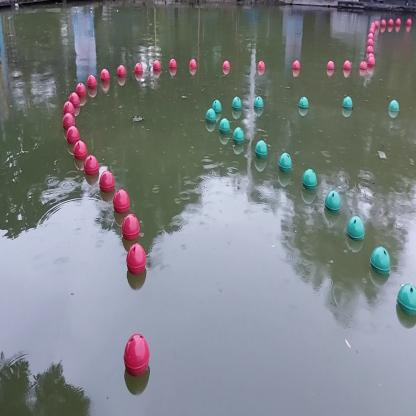green_buoy: (395, 282, 416, 325), (370, 245, 392, 284), (344, 216, 364, 246), (325, 188, 343, 220), (255, 138, 268, 166), (303, 170, 318, 191), (278, 154, 292, 176), (297, 94, 310, 116), (219, 118, 231, 141), (342, 94, 354, 116), (233, 127, 245, 149), (389, 97, 400, 120), (231, 97, 243, 116), (252, 95, 264, 112), (208, 108, 216, 127), (212, 99, 220, 116)
red_buoy: (125, 335, 149, 377), (127, 244, 147, 278), (122, 213, 141, 245), (112, 188, 131, 216), (85, 154, 99, 179), (100, 172, 114, 197), (62, 112, 75, 134), (86, 73, 98, 95), (66, 126, 78, 148), (75, 80, 86, 102), (99, 69, 111, 89), (68, 91, 79, 112), (63, 103, 75, 122), (74, 141, 86, 159), (116, 65, 126, 83), (188, 56, 197, 74), (366, 54, 376, 70), (326, 59, 335, 76), (342, 61, 351, 78), (134, 64, 142, 81), (292, 59, 299, 76), (222, 60, 230, 74), (169, 60, 177, 74), (360, 61, 366, 78), (366, 43, 374, 54), (257, 61, 265, 72), (154, 61, 160, 75), (405, 18, 412, 30), (380, 20, 387, 32), (388, 19, 394, 31), (368, 30, 374, 42), (394, 20, 401, 29), (367, 38, 373, 48), (375, 20, 381, 29), (370, 24, 376, 33)
